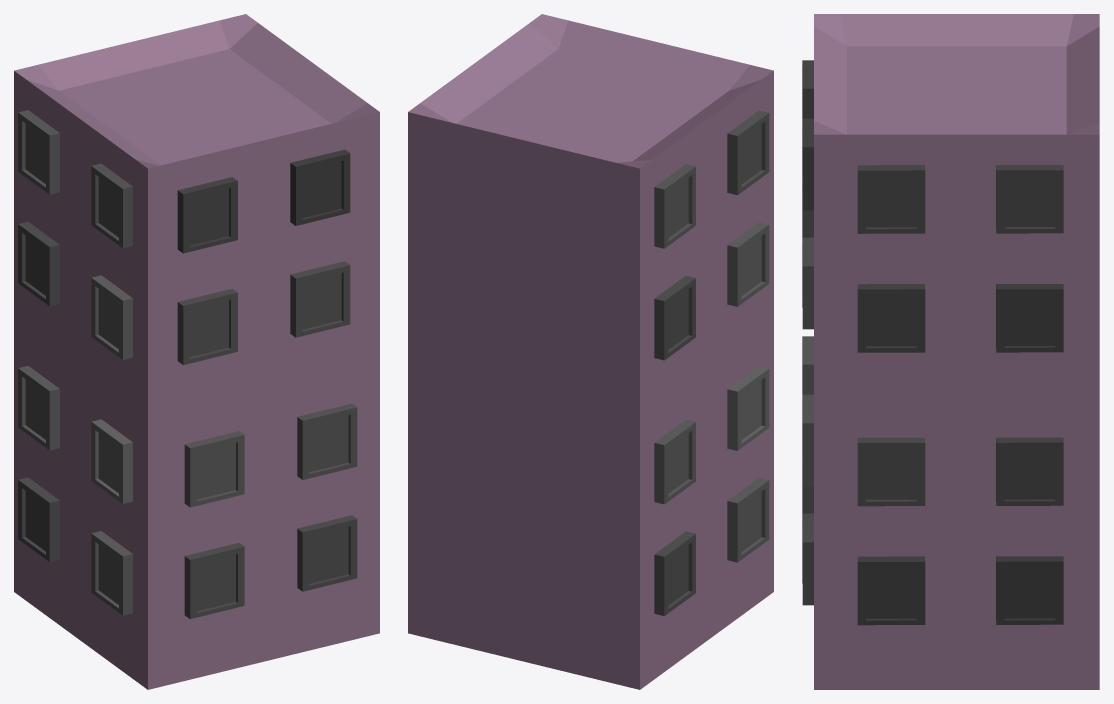
Rendered from built.fbx.
3 renders of one model, left to right at view 1: azimuth 30°, elevation 25°; view 2: azimuth 150°, elevation 25°; view 3: azimuth 270°, elevation 25°, orthographic. The views are drawn at different scales.
Parts seen in each view (by area): view 1: Cube, Cube.016, Cube.014, Cube.011, Cube.009, Cube.010, Cube.013, Cube.015, Cube.012, Cube.003, Cube.001, Cube.002 (+5 smaller); view 2: Cube, Cube.002, Cube.004, Cube.006, Cube.008, Cube.003, Cube.005, Cube.007, Cube.001; view 3: Cube, Cube.019, Cube.020, Cube.017, Cube.018, Cube.021, Cube.022, Cube.023, Cube.024, Cube.013, Cube.014, Cube.015 (+3 smaller).
Boxes of the visible parts, left/top/right/bottom form: Cube: left=14, top=14, right=379, bottom=689; Cube.016: left=297, top=515, right=357, bottom=591; Cube.014: left=290, top=261, right=350, bottom=337; Cube.011: left=184, top=431, right=244, bottom=507; Cube.009: left=177, top=177, right=237, bottom=253; Cube.010: left=177, top=288, right=237, bottom=365; Cube.013: left=290, top=149, right=350, bottom=225; Cube.015: left=297, top=403, right=357, bottom=479; Cube.012: left=184, top=542, right=244, bottom=619; Cube.003: left=18, top=221, right=59, bottom=306; Cube.001: left=18, top=110, right=59, bottom=194; Cube.002: left=91, top=163, right=132, bottom=248; Cube: left=408, top=14, right=773, bottom=689; Cube.002: left=727, top=110, right=769, bottom=195; Cube.004: left=727, top=222, right=769, bottom=306; Cube.006: left=727, top=366, right=769, bottom=450; Cube.008: left=727, top=478, right=769, bottom=562; Cube.003: left=654, top=275, right=695, bottom=360; Cube.005: left=654, top=419, right=695, bottom=504; Cube.007: left=654, top=531, right=695, bottom=615; Cube.001: left=654, top=164, right=695, bottom=248; Cube: left=814, top=14, right=1099, bottom=689; Cube.019: left=857, top=437, right=925, bottom=506; Cube.020: left=857, top=556, right=925, bottom=625; Cube.017: left=857, top=165, right=925, bottom=233; Cube.018: left=857, top=284, right=925, bottom=352; Cube.021: left=996, top=165, right=1063, bottom=233; Cube.022: left=996, top=284, right=1063, bottom=352; Cube.023: left=996, top=437, right=1063, bottom=505; Cube.024: left=996, top=556, right=1063, bottom=624; Cube.013: left=802, top=118, right=813, bottom=210; Cube.014: left=802, top=237, right=813, bottom=329; Cube.015: left=802, top=394, right=813, bottom=486.
Size of the model in its own units: 2676 by 5269 by 2555.
